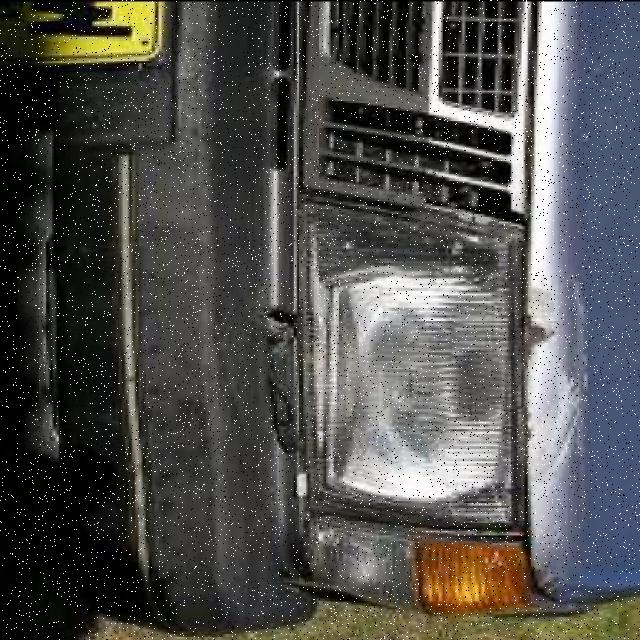damage: (516, 267, 597, 497), (243, 291, 311, 460)
